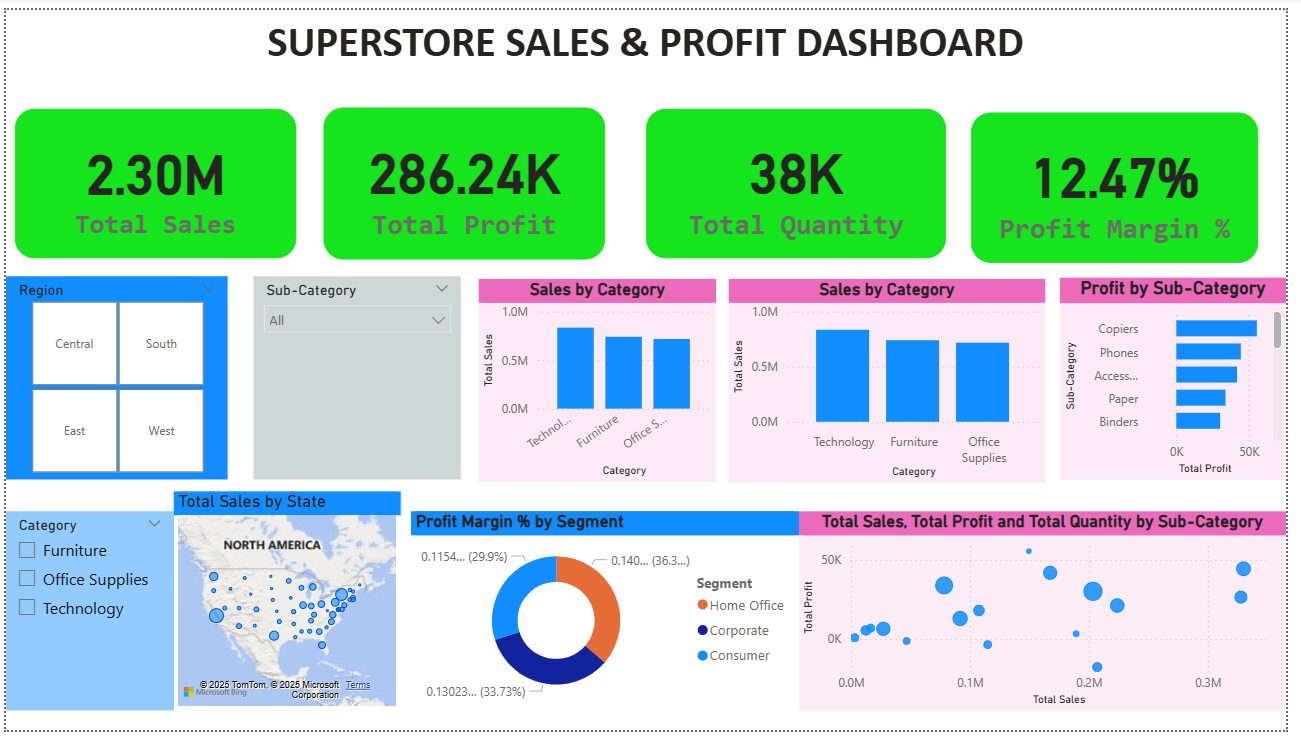

The dashboard page shown, as its layout file describes it:
{"tool":"powerbi","page":{"name":"Page 1","canvas":[1280,720],"ordinal":0},"visuals":[{"type":"card","fields":{"Values":["SampleSuperstore.Total Sales"]},"box":[9.1,99.2,281.6,149.4],"z":0},{"type":"card","fields":{"Values":["SampleSuperstore.Total Profit"]},"box":[317,96.9,281.6,151.6],"z":2000},{"type":"card","fields":{"Values":["SampleSuperstore.Total Quantity"]},"box":[639.7,99.2,299.9,149.4],"z":3000},{"type":"columnChart","title":"Sales by Category","fields":{"Category":["SampleSuperstore.Category"],"Y":["SampleSuperstore.Total Sales"]},"box":[722.5,268.3,316.7,204],"z":4000},{"type":"clusteredBarChart","title":" Profit by Sub-Category","fields":{"Y":["SampleSuperstore.Total Profit"],"Category":["SampleSuperstore.Sub-Category"]},"box":[1053.6,267.8,226.7,202],"z":5000},{"type":"scatterChart","fields":{"X":["SampleSuperstore.Total Sales"],"Y":["SampleSuperstore.Total Profit"],"Category":["SampleSuperstore.Sub-Category"],"Size":["SampleSuperstore.Total Quantity"]},"box":[792.5,501.7,488,199.5],"z":6000},{"type":"map","fields":{"Category":["SampleSuperstore.State"],"Size":["SampleSuperstore.Total Sales"]},"box":[167.6,481.2,226.9,220.1],"z":7000},{"type":"donutChart","fields":{"Category":["SampleSuperstore.Segment"],"Y":["SampleSuperstore.Profit Margin %"]},"box":[404.8,501.7,387.7,199.5],"z":8000},{"type":"slicer","fields":{"Values":["SampleSuperstore.Region"]},"box":[0,266.6,222,203.2],"z":9000},{"type":"slicer","fields":{"Values":["SampleSuperstore.Category"]},"box":[0,501.7,167.6,199.5],"z":10000},{"type":"slicer","fields":{"Values":["SampleSuperstore.Sub-Category"]},"box":[247.4,266.8,207.5,203],"z":11000},{"type":"clusteredColumnChart","title":"Sales by Category","fields":{"Category":["SampleSuperstore.Category"],"Y":["SampleSuperstore.Total Sales"]},"box":[472.3,268.3,237.8,202.9],"z":12000},{"type":"card","fields":{"Values":["SampleSuperstore.Profit Margin %"]},"box":[964.6,102.6,287.3,150.5],"z":13000},{"type":"textbox","box":[4.3,0,1271.3,81],"z":16000}]}

Visuals, with their boxes in screenshot pixels (x1, y1, x2, y2), scaled from the page's 1280x720 canvas onto the 1301x747 screenshot:
card - SampleSuperstore.Total Sales: {"left": 9, "top": 103, "right": 295, "bottom": 258}
card - SampleSuperstore.Total Profit: {"left": 322, "top": 101, "right": 608, "bottom": 258}
card - SampleSuperstore.Total Quantity: {"left": 650, "top": 103, "right": 955, "bottom": 258}
"Sales by Category" columnChart: {"left": 734, "top": 278, "right": 1056, "bottom": 490}
" Profit by Sub-Category" clusteredBarChart: {"left": 1071, "top": 278, "right": 1300, "bottom": 487}
scatterChart - SampleSuperstore.Total Sales x SampleSuperstore.Total Profit: {"left": 806, "top": 521, "right": 1300, "bottom": 727}
map - SampleSuperstore.State x SampleSuperstore.Total Sales: {"left": 170, "top": 499, "right": 401, "bottom": 728}
donutChart - SampleSuperstore.Segment x SampleSuperstore.Profit Margin %: {"left": 411, "top": 521, "right": 806, "bottom": 727}
slicer - SampleSuperstore.Region: {"left": 0, "top": 277, "right": 226, "bottom": 487}
slicer - SampleSuperstore.Category: {"left": 0, "top": 521, "right": 170, "bottom": 727}
slicer - SampleSuperstore.Sub-Category: {"left": 251, "top": 277, "right": 462, "bottom": 487}
"Sales by Category" clusteredColumnChart: {"left": 480, "top": 278, "right": 722, "bottom": 489}
card - SampleSuperstore.Profit Margin %: {"left": 980, "top": 106, "right": 1272, "bottom": 263}
textbox: {"left": 4, "top": 0, "right": 1297, "bottom": 84}
